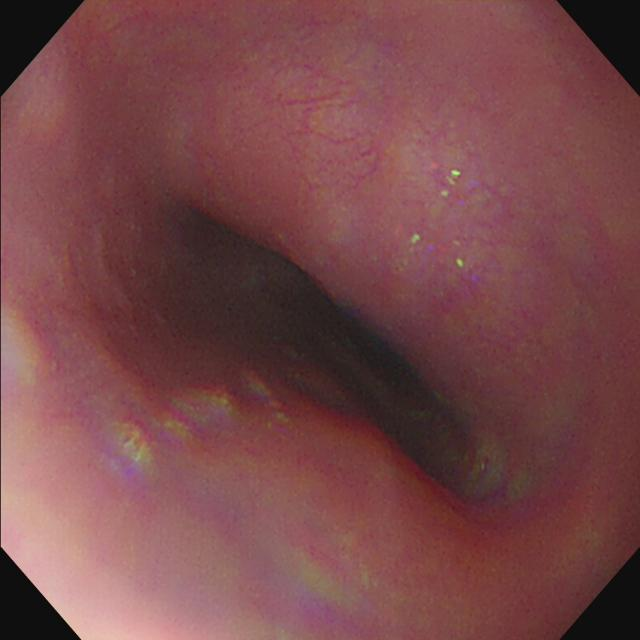E: (259, 257, 449, 447)
